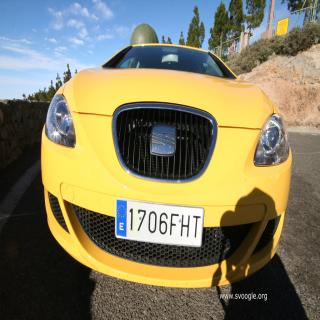license: (117, 200, 204, 248)
